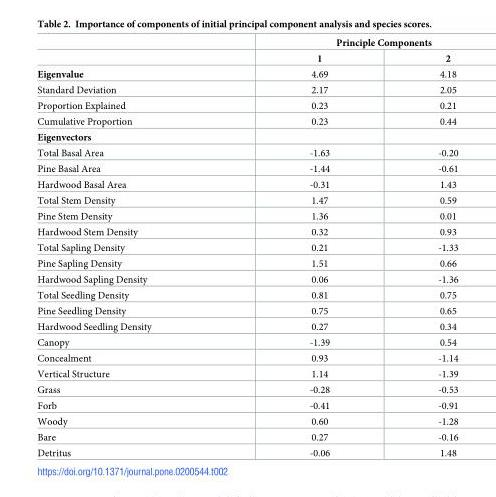table: (36, 37, 457, 457)
table column: (36, 37, 229, 457), (229, 37, 383, 457), (383, 37, 457, 457)
table column header: (36, 37, 457, 65)
table projected row header: (36, 129, 457, 144)
table row: (36, 65, 457, 81), (36, 81, 457, 97), (36, 97, 457, 113), (36, 113, 457, 129), (36, 144, 457, 160), (36, 160, 457, 176), (36, 176, 457, 192), (36, 192, 457, 208), (36, 223, 457, 239), (36, 239, 457, 255), (36, 255, 457, 271), (36, 286, 457, 302), (36, 302, 457, 318), (36, 318, 457, 334), (36, 334, 457, 350), (36, 365, 457, 381), (36, 381, 457, 397), (36, 397, 457, 413), (36, 413, 457, 429), (36, 50, 457, 65), (36, 129, 457, 144), (36, 208, 457, 223), (36, 271, 457, 286), (36, 350, 457, 365), (36, 429, 457, 444), (36, 37, 457, 50), (36, 444, 457, 457)
table spanning cell: (229, 37, 457, 50)
